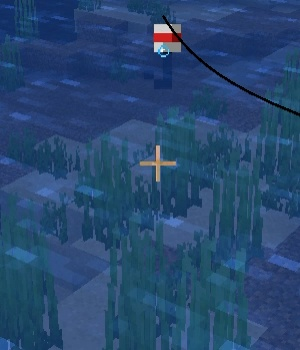up: (150, 13, 184, 96)
